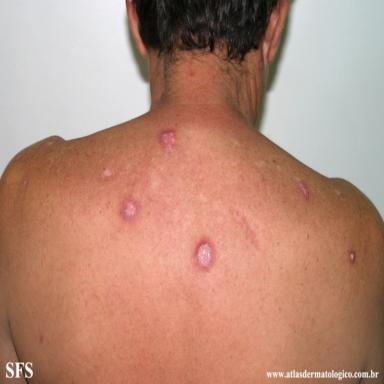Lupus-Erythematosus-Chronicus-Discoides: (193, 239, 215, 270), (121, 198, 141, 221), (159, 130, 177, 148), (299, 182, 310, 200), (349, 250, 355, 263)
